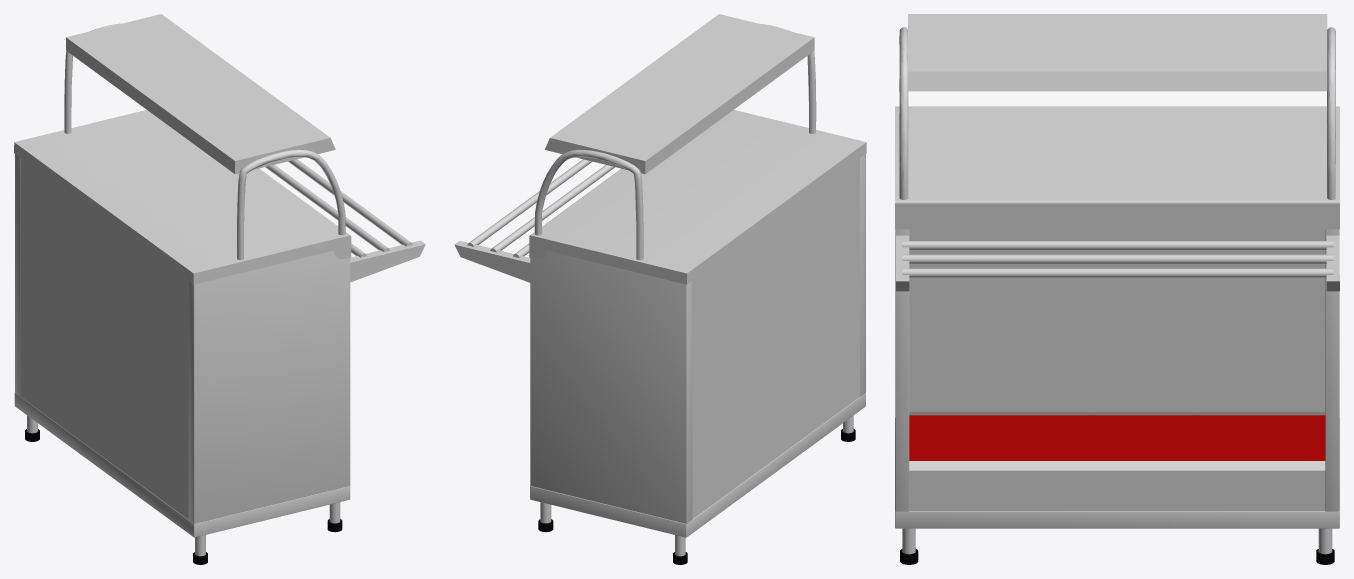
Rendered from KitchenRazdacha01_02a.FBX.
3 renders of one model, left to right at view 1: azimuth 30°, elevation 25°; view 2: azimuth 150°, elevation 25°; view 3: azimuth 270°, elevation 25°, orthographic. The views are drawn at different scales.
Visible parts, largest first — view 1: Kitchen02a; view 2: Kitchen02a; view 3: Kitchen02a.
Boxes of the visible parts, x1=… form: Kitchen02a: x1=14, y1=14, x2=425, y2=564; Kitchen02a: x1=454, y1=14, x2=866, y2=564; Kitchen02a: x1=895, y1=14, x2=1339, y2=564.
Bounding box in the file's own units: 36.18 × 58.35 × 48.36.
